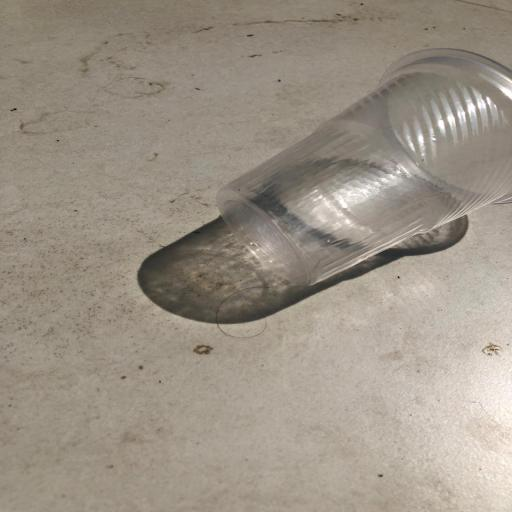waste: (216, 38, 512, 290)
